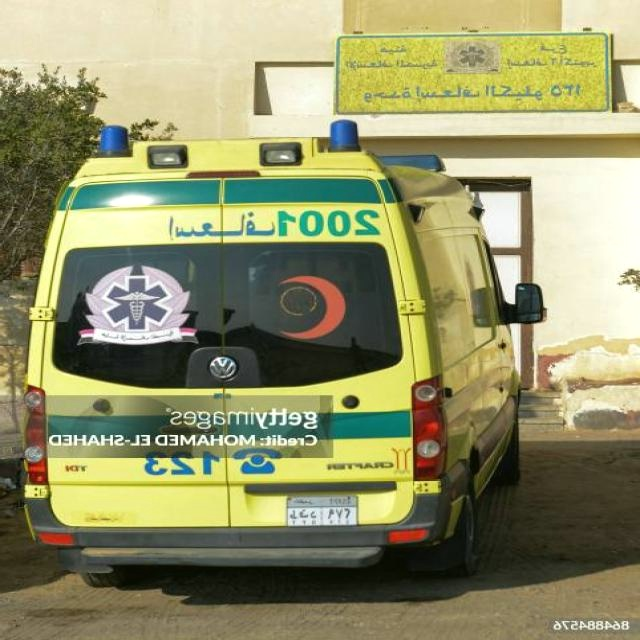Ambulance: (19, 118, 547, 587)
